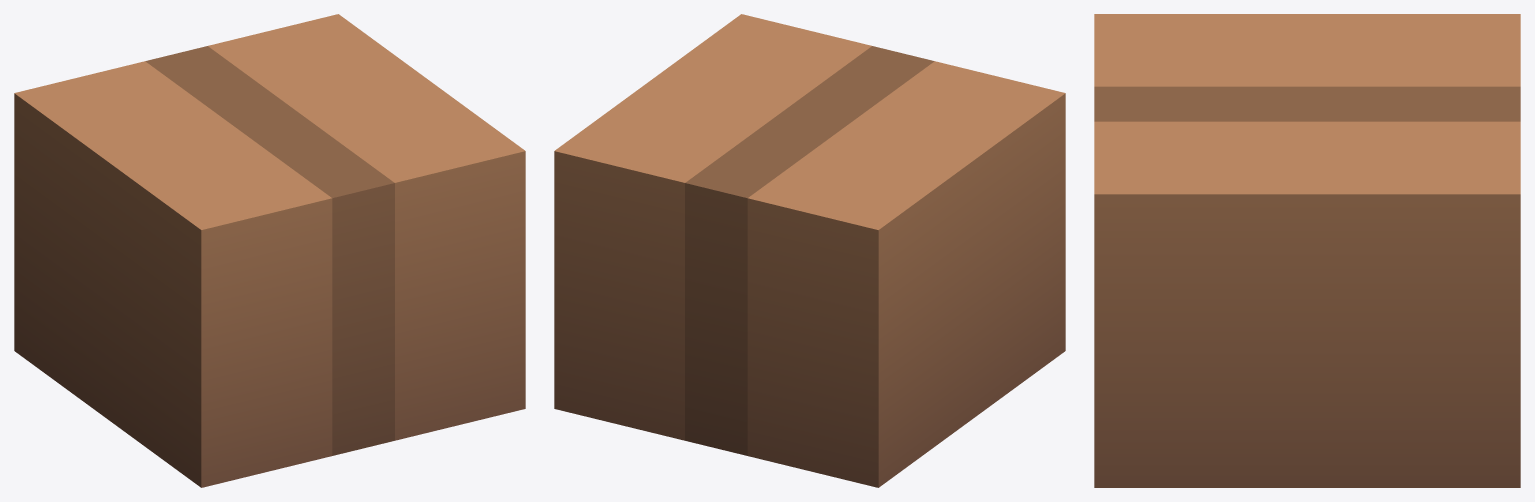
Rendered from CardboardBox_1.fbx.
3 views of the same model, side by side, from view 1: azimuth 30°, elevation 25°; view 2: azimuth 150°, elevation 25°; view 3: azimuth 270°, elevation 25° (orthographic). The views are drawn at different scales.
Visible parts, largest first — view 1: Cube.126; view 2: Cube.126; view 3: Cube.126.
Part boxes in pixels (x1,y1,x2,y2): Cube.126: [14, 14, 525, 487]; Cube.126: [554, 14, 1065, 487]; Cube.126: [1094, 14, 1520, 487].
Bounding box in the file's own units: 100 × 75.95 × 100.
